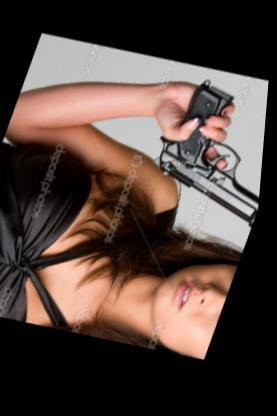pistol: (134, 74, 269, 244)
